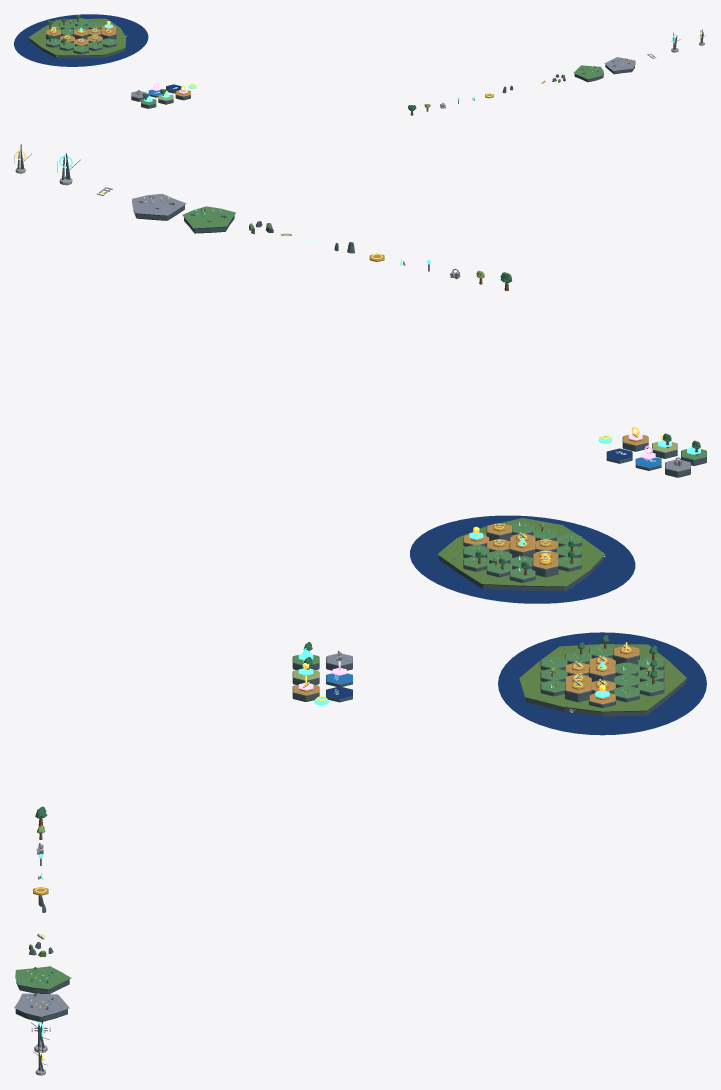
File: CH01_MAP_KIT_R10.glb
The picture shows the model from 3 angles, top to bottom: view 1: azimuth 30°, elevation 25°; view 2: azimuth 150°, elevation 25°; view 3: azimuth 270°, elevation 25°; orthographic projection. The views are drawn at different scales.
Visible parts, largest first — view 1: MAP_CONTINUOUS_TIDE, MAP_AUTHORED_ISLAND_SHELF, PROP_TERRAIN_RUIN_BED, PROP_TERRAIN_FOREST_BED; view 2: MAP_CONTINUOUS_TIDE, MAP_AUTHORED_ISLAND_SHELF, PROP_TERRAIN_RUIN_BED, PROP_TERRAIN_FOREST_BED; view 3: MAP_CONTINUOUS_TIDE, MAP_AUTHORED_ISLAND_SHELF, PROP_TERRAIN_RUIN_BED, PROP_TERRAIN_FOREST_BED.
Boxes of the visible parts, x1,y1,x2,y2 form: MAP_CONTINUOUS_TIDE: (14,14,148,66); MAP_AUTHORED_ISLAND_SHELF: (28,18,125,58); PROP_TERRAIN_RUIN_BED: (604,57,635,74); PROP_TERRAIN_FOREST_BED: (573,65,604,82); MAP_CONTINUOUS_TIDE: (410,515,635,603); MAP_AUTHORED_ISLAND_SHELF: (437,518,605,591); PROP_TERRAIN_RUIN_BED: (132,193,186,220); PROP_TERRAIN_FOREST_BED: (182,206,235,233); MAP_CONTINUOUS_TIDE: (498,632,706,735); MAP_AUTHORED_ISLAND_SHELF: (519,644,686,716); PROP_TERRAIN_RUIN_BED: (14,993,69,1022); PROP_TERRAIN_FOREST_BED: (15,966,71,993).
Size of the model in its own units: 67.88 by 2.81 by 44.43.
